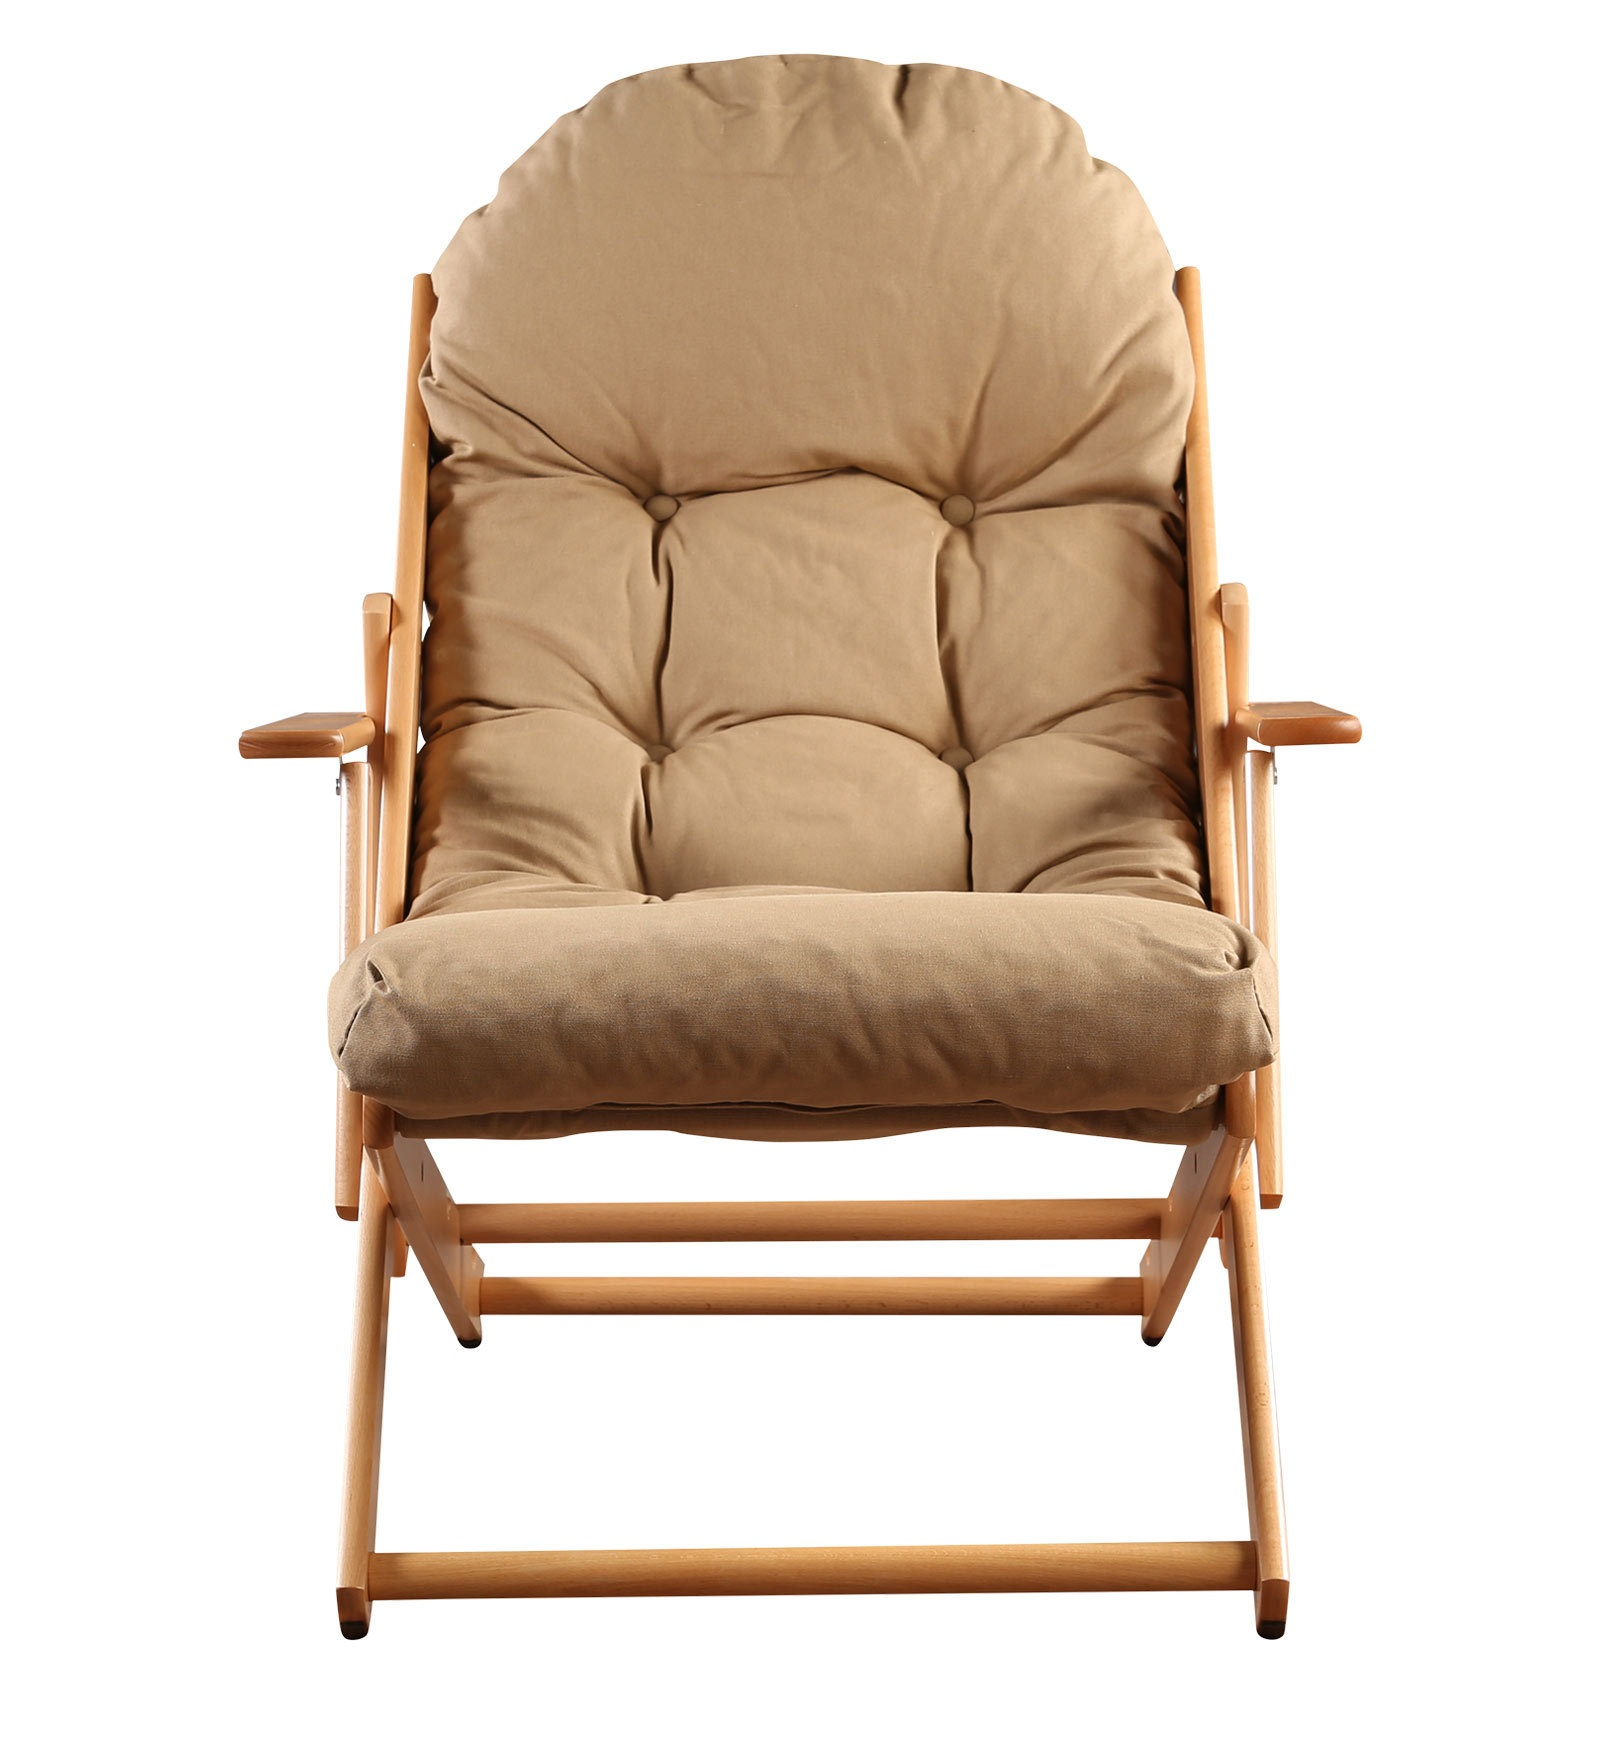Tulip Folding Chair in Beige Finish by HomeTown: (208, 29, 1438, 1685)
